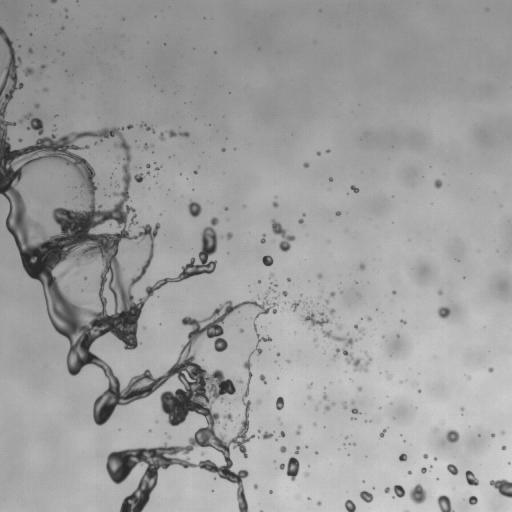droplet: (271, 219, 295, 251), (279, 457, 299, 481), (489, 479, 511, 498), (409, 484, 427, 503), (437, 494, 454, 511), (187, 200, 201, 217), (465, 470, 478, 485), (359, 490, 373, 502), (446, 430, 459, 442), (393, 485, 405, 497), (437, 307, 450, 318), (446, 464, 458, 475), (344, 499, 355, 511), (275, 396, 284, 410), (262, 255, 273, 266), (290, 300, 301, 310), (468, 495, 477, 505), (262, 431, 272, 439), (24, 67, 33, 75), (434, 179, 442, 188), (350, 185, 358, 193), (398, 453, 406, 461), (259, 375, 266, 383), (351, 408, 360, 414), (329, 308, 335, 316), (260, 234, 265, 243), (143, 143, 149, 150), (226, 232, 232, 239), (359, 263, 365, 270), (335, 323, 342, 329), (342, 401, 347, 409), (272, 201, 278, 207), (329, 291, 335, 297), (280, 446, 286, 452), (421, 467, 427, 473), (384, 487, 390, 493), (159, 133, 164, 140), (322, 393, 327, 400), (296, 426, 300, 434), (295, 446, 299, 454), (126, 124, 132, 129), (303, 162, 309, 167), (400, 319, 406, 324), (280, 431, 285, 437), (298, 218, 303, 223), (317, 273, 322, 278), (488, 367, 493, 372), (386, 374, 391, 379), (308, 383, 313, 388), (357, 386, 362, 391), (501, 445, 506, 450), (423, 453, 428, 458), (253, 484, 258, 489), (269, 273, 273, 278), (438, 290, 442, 295), (325, 299, 329, 304), (304, 472, 309, 476), (316, 501, 321, 505), (28, 49, 32, 53), (41, 64, 45, 68), (18, 138, 22, 142), (155, 167, 159, 171), (336, 211, 340, 215), (286, 277, 290, 281), (367, 317, 371, 321), (239, 328, 243, 332), (307, 395, 311, 399), (351, 416, 355, 420), (491, 433, 495, 437), (167, 435, 171, 439), (35, 104, 39, 107), (326, 149, 329, 153), (317, 151, 320, 155), (146, 164, 149, 168), (194, 170, 197, 174), (329, 177, 332, 181), (392, 290, 395, 294), (283, 301, 287, 304), (276, 352, 279, 356), (257, 399, 260, 403), (460, 407, 463, 411), (500, 431, 504, 434), (351, 442, 355, 445), (224, 207, 227, 210), (418, 389, 421, 392), (408, 471, 411, 474), (44, 88, 46, 91), (222, 148, 224, 151), (147, 171, 149, 174), (84, 276, 86, 279), (258, 280, 260, 283), (467, 376, 470, 378), (366, 420, 369, 422), (258, 430, 260, 433), (315, 451, 317, 454), (434, 457, 436, 460), (430, 465, 432, 468), (270, 490, 272, 493), (54, 128, 56, 130), (94, 142, 96, 144), (74, 196, 76, 198), (303, 305, 305, 307), (287, 360, 289, 362), (351, 401, 353, 403), (315, 407, 317, 409), (313, 423, 315, 425), (345, 436, 347, 438), (201, 452, 203, 454), (308, 497, 310, 499)
ligament: (0, 26, 287, 511), (301, 308, 372, 371), (167, 130, 189, 137), (140, 123, 154, 132), (354, 325, 364, 333), (324, 402, 334, 410), (379, 428, 387, 437), (314, 336, 317, 344), (50, 0, 57, 3), (405, 510, 408, 511)
